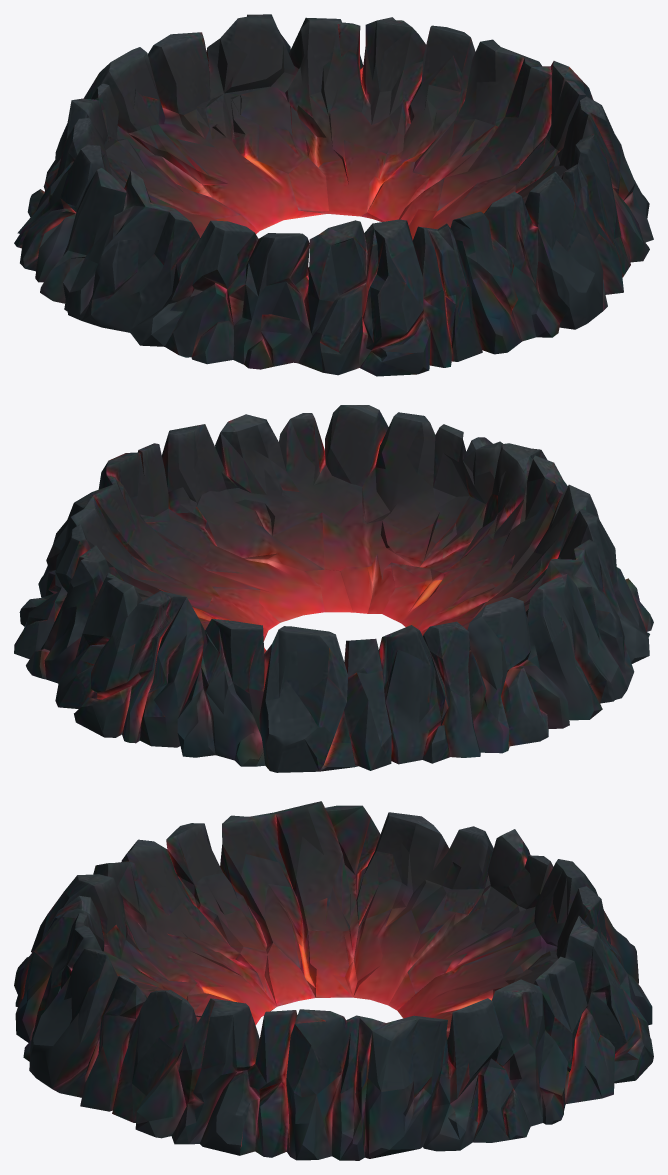
Rendered from crater.glb.
3 views of the same model, one above another, from view 1: azimuth 30°, elevation 25°; view 2: azimuth 150°, elevation 25°; view 3: azimuth 270°, elevation 25° (orthographic).
Bounding box in the file's own units: 1.9 × 0.4281 × 1.9.
Materials: 1 (1 with a texture image).
